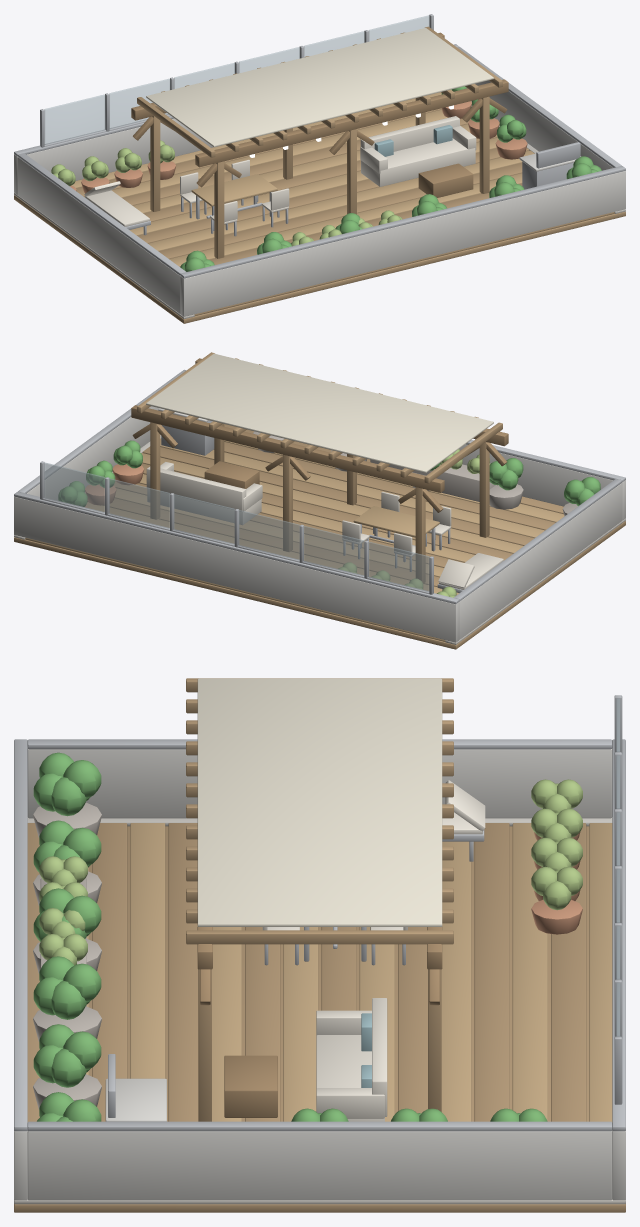
Rendered from th22_dachterrasse.glb.
3 renders of one model, top to bottom at view 1: azimuth 30°, elevation 25°; view 2: azimuth 150°, elevation 25°; view 3: azimuth 270°, elevation 25°, orthographic. The views are drawn at different scales.
Parts seen in each view (by area): view 1: Cube.079, Cube.019, Cube.023, Cube.021, Cube.064, Cube, Cube.008, Cube.007, Cube.020, Cube.119, Cube.014, Cube.025 (+33 smaller); view 2: Cube.079, Cube.021, Cube.023, Cube.065, Cube, Cube.003, Cube.011, Cube.004, Cube.005, Cube.025, Cube.019, Cube.006 (+35 smaller); view 3: Cube.079, Cube.025, Cube.023, Cube, Cube.013, Cube.004, Cube.014, Cube.005, Cube.003, Cube.012, Cube.015, Cube.016 (+37 smaller).
Part boxes in pixels (x1,y1,x2,y2): Cube.079: (146, 28, 493, 147); Cube.019: (180, 171, 625, 316); Cube.023: (17, 157, 180, 313); Cube.021: (14, 118, 213, 194); Cube.064: (195, 79, 508, 167); Cube: (14, 195, 625, 323); Cube.008: (148, 150, 534, 251); Cube.007: (159, 163, 522, 259); Cube.020: (180, 166, 625, 278); Cube.119: (361, 138, 475, 186); Cube.014: (84, 109, 447, 197); Cube.025: (471, 80, 613, 170); Cube.079: (146, 353, 493, 472); Cube.021: (14, 496, 459, 642); Cube.023: (459, 483, 622, 639); Cube.065: (131, 405, 444, 492); Cube: (14, 521, 625, 649); Cube.003: (224, 442, 555, 530); Cube.011: (87, 498, 439, 587); Cube.004: (160, 438, 544, 538); Cube.005: (142, 446, 533, 545); Cube.025: (27, 406, 159, 500); Cube.019: (459, 444, 625, 520); Cube.006: (141, 453, 523, 553); Cube.079: (197, 678, 442, 926); Cube.025: (27, 1130, 612, 1200); Cube.023: (27, 748, 612, 818); Cube: (14, 826, 625, 1212); Cube.013: (474, 823, 509, 1121); Cube.004: (130, 823, 165, 1078); Cube.014: (512, 823, 547, 1121); Cube.005: (168, 823, 198, 1121); Cube.003: (92, 823, 127, 1121); Cube.012: (441, 841, 471, 1121); Cube.015: (551, 823, 586, 1121); Cube.016: (589, 823, 612, 1122).
Size of the model in its own units: 12 by 3.14 by 8.
